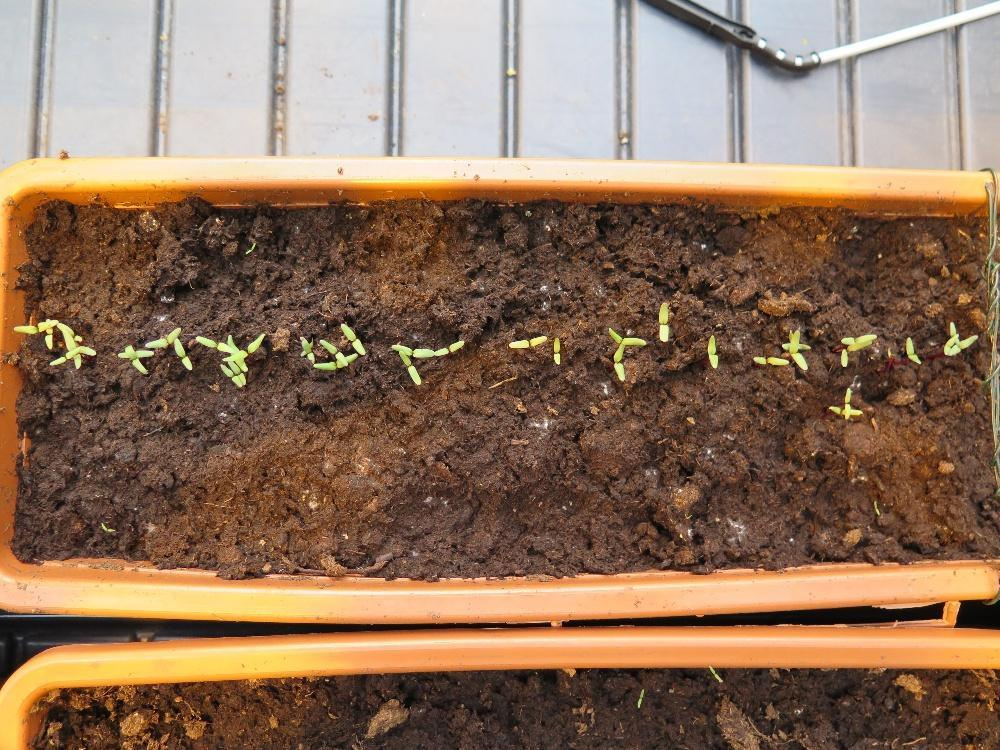crop: (506, 334, 547, 348), (657, 298, 669, 342), (904, 334, 921, 365), (705, 331, 718, 370), (550, 335, 560, 367)
weed: (242, 238, 255, 256), (870, 498, 880, 518), (99, 521, 115, 532)
